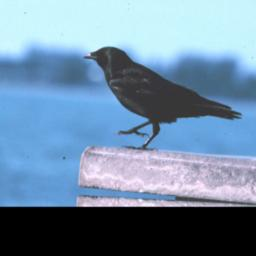Crow: (74, 41, 249, 159)
